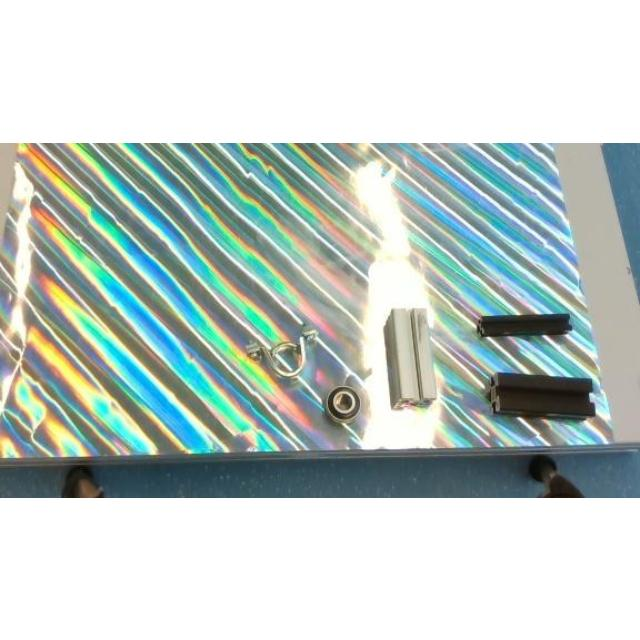Bearing2: (324, 384, 362, 424)
F20_20_B: (476, 312, 572, 336)
Housing: (246, 323, 318, 377)
S40_40_B: (486, 372, 596, 418)
S40_40_G: (383, 308, 435, 408)
